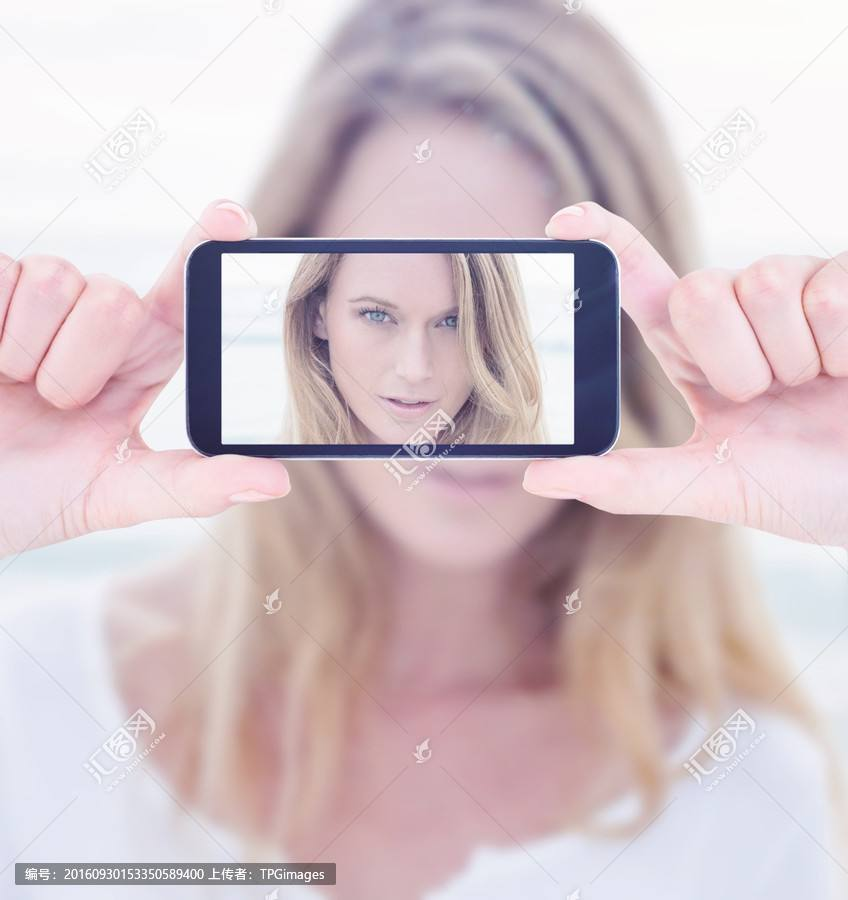phone: (3, 175, 848, 578)
